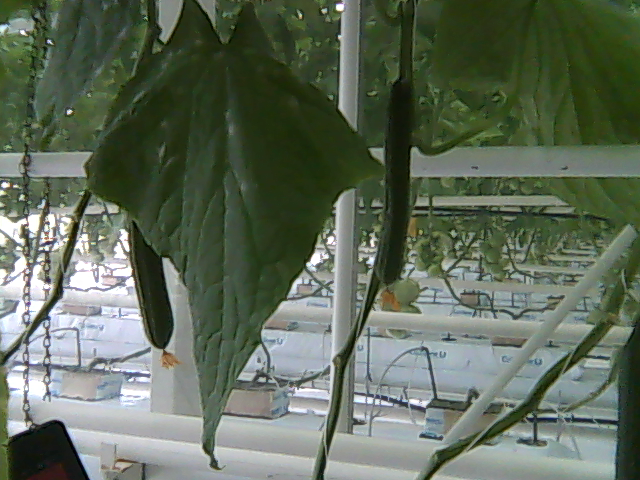concombre: (371, 77, 414, 310), (125, 221, 179, 367), (614, 309, 640, 480)
